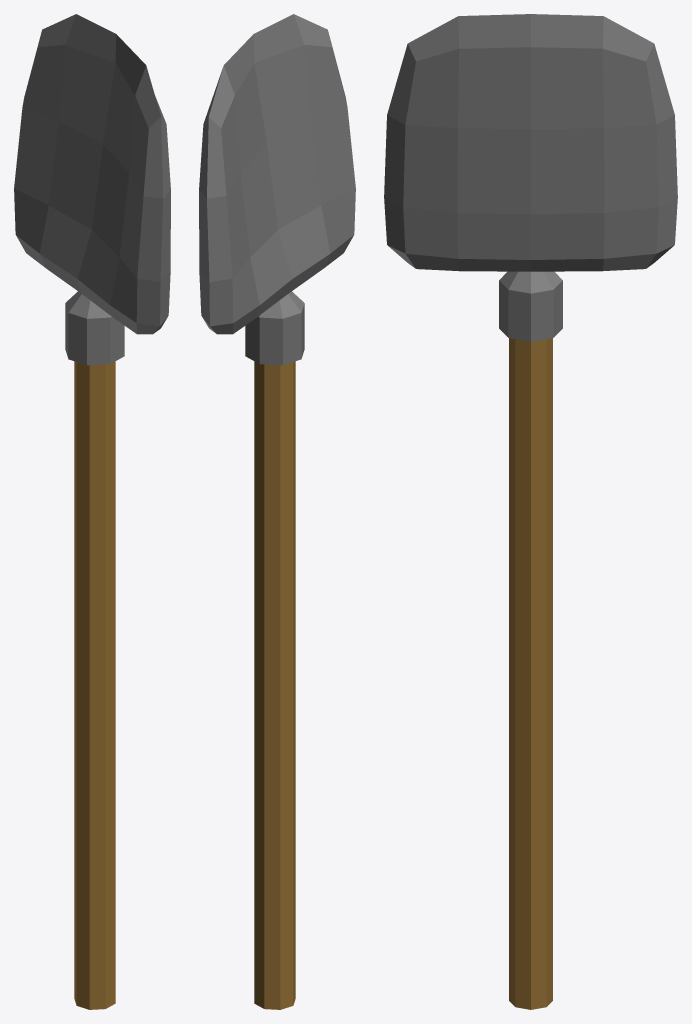
The model's file is pelle.fbx.
The picture shows the model from 3 angles, left to right: view 1: azimuth 30°, elevation 25°; view 2: azimuth 150°, elevation 25°; view 3: azimuth 270°, elevation 25°; orthographic projection. The views are drawn at different scales.
Parts seen in each view (by area): view 1: Pelle; view 2: Pelle; view 3: Pelle.
Part boxes in pixels (x1,y1,x2,y2): Pelle: [14, 14, 170, 1009]; Pelle: [199, 14, 355, 1009]; Pelle: [384, 14, 677, 1009].
Size of the model in its own units: 3.73 by 60.92 by 16.27.
